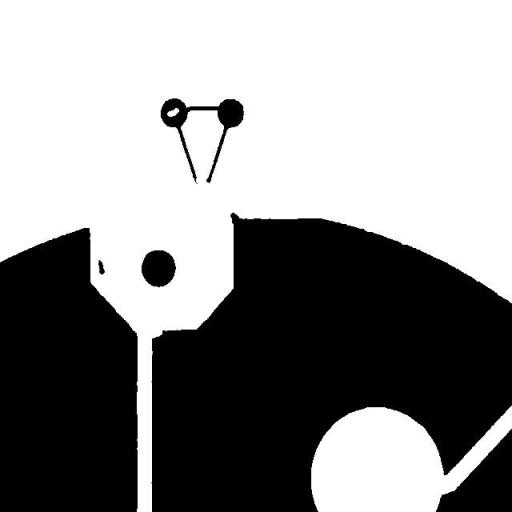copper: (90, 252, 112, 282)
mousebite: (140, 319, 170, 346)
open: (188, 169, 218, 195)
pin-hole: (160, 100, 186, 124)
short: (178, 98, 228, 120)
spur: (222, 205, 248, 233)
